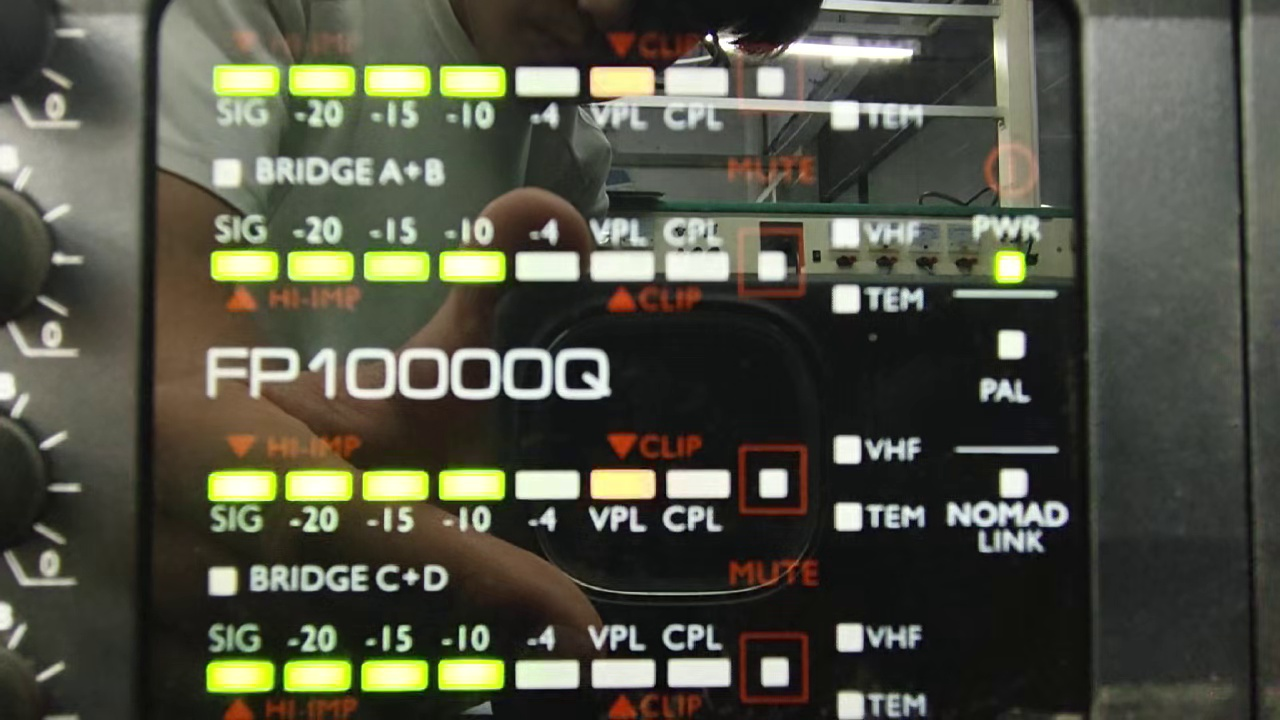FP_CPL: (658, 458, 736, 543), (661, 199, 732, 292), (659, 58, 733, 139), (657, 617, 732, 691)
FP_PWR: (964, 206, 1049, 290)
FP_PWR_area: (955, 139, 1057, 291)
FP_SIG_area: (207, 196, 925, 320), (226, 21, 933, 138), (198, 424, 924, 536), (198, 614, 924, 720)
FP_VPL: (584, 203, 660, 293), (583, 460, 662, 540), (583, 57, 659, 136), (584, 617, 658, 693)
